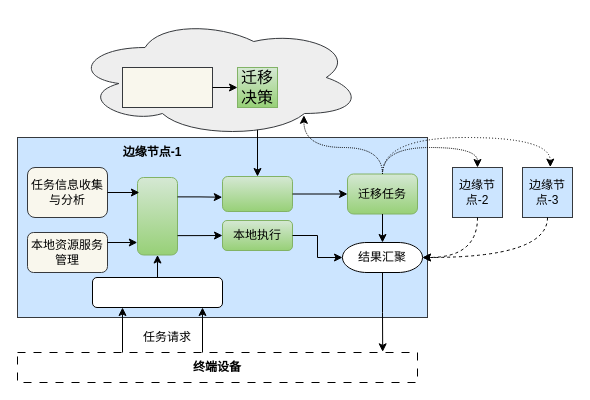
The diagram is 590 pixels wide and 400 high, and some of its shapes have lost their labels. The shapes that lost their labels are listed below. From the top down, each one's centre as x and y in pixels, then its label:
At (167,87): "边缘状态 收集与分析".
At (257,194): "任务迁移 决策".
At (157,215): "任务 迁移 决策".
At (157,292): "任务划分".
